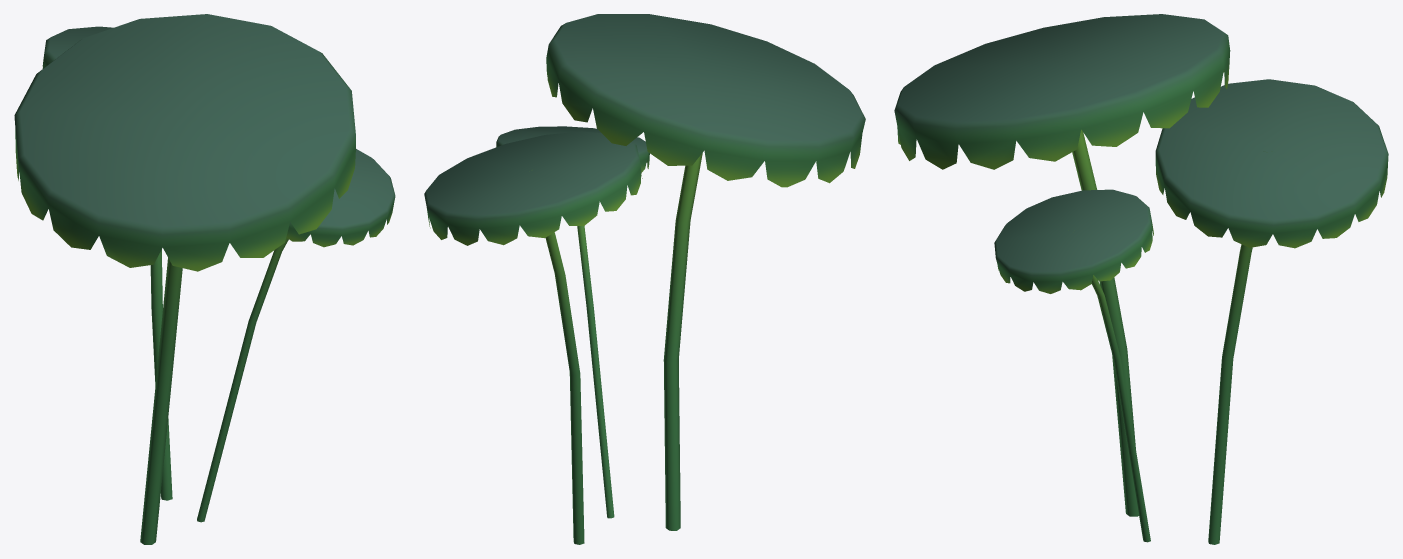
Rendered from plant_15.fbx.
3 views of the same model, side by side, from view 1: azimuth 30°, elevation 25°; view 2: azimuth 150°, elevation 25°; view 3: azimuth 270°, elevation 25° (orthographic). The views are drawn at different scales.
Parts seen in each view (by area): view 1: plant_15; view 2: plant_15; view 3: plant_15.
Part boxes in pixels (bbox=[...]): plant_15: bbox=[14, 14, 395, 544]; plant_15: bbox=[424, 14, 865, 544]; plant_15: bbox=[894, 14, 1388, 544].
Bounding box in the file's own units: 3 × 3.99 × 3.68.
